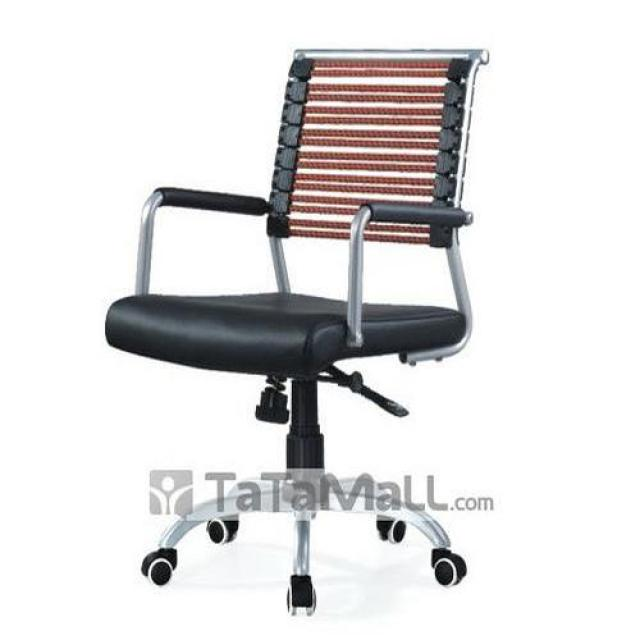swivelchair: (108, 49, 492, 614)
